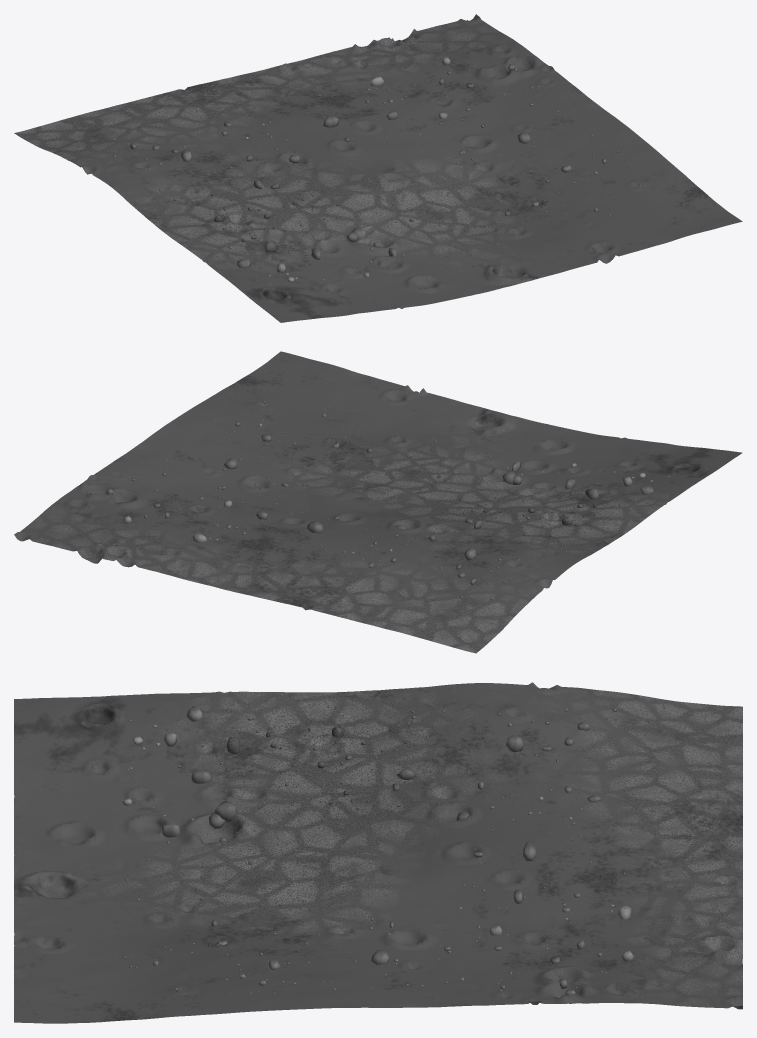
The model's file is lunar_terrain_5042.glb.
The picture shows the model from 3 angles, top to bottom: view 1: azimuth 30°, elevation 25°; view 2: azimuth 150°, elevation 25°; view 3: azimuth 270°, elevation 25°; orthographic projection. The views are drawn at different scales.
Visible parts, largest first — view 1: lunar_terrain_50_42; view 2: lunar_terrain_50_42; view 3: lunar_terrain_50_42.
Boxes of the visible parts, <box> form: lunar_terrain_50_42: <box>14,14,742,322</box>; lunar_terrain_50_42: <box>14,351,742,653</box>; lunar_terrain_50_42: <box>14,682,742,1023</box>.
Size of the model in its own units: 75 by 6.5 by 75.02.
1 material, 1 textured.
